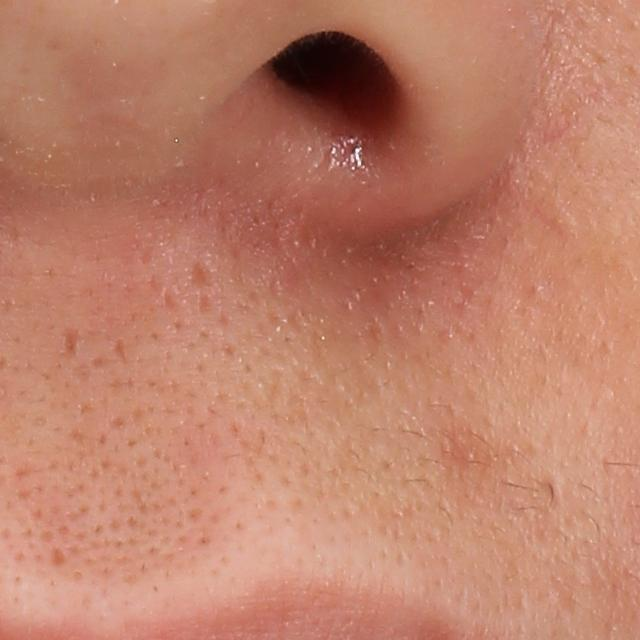atrophic_scar: (527, 194, 575, 246), (189, 257, 214, 291), (61, 329, 83, 359), (111, 337, 128, 369)
